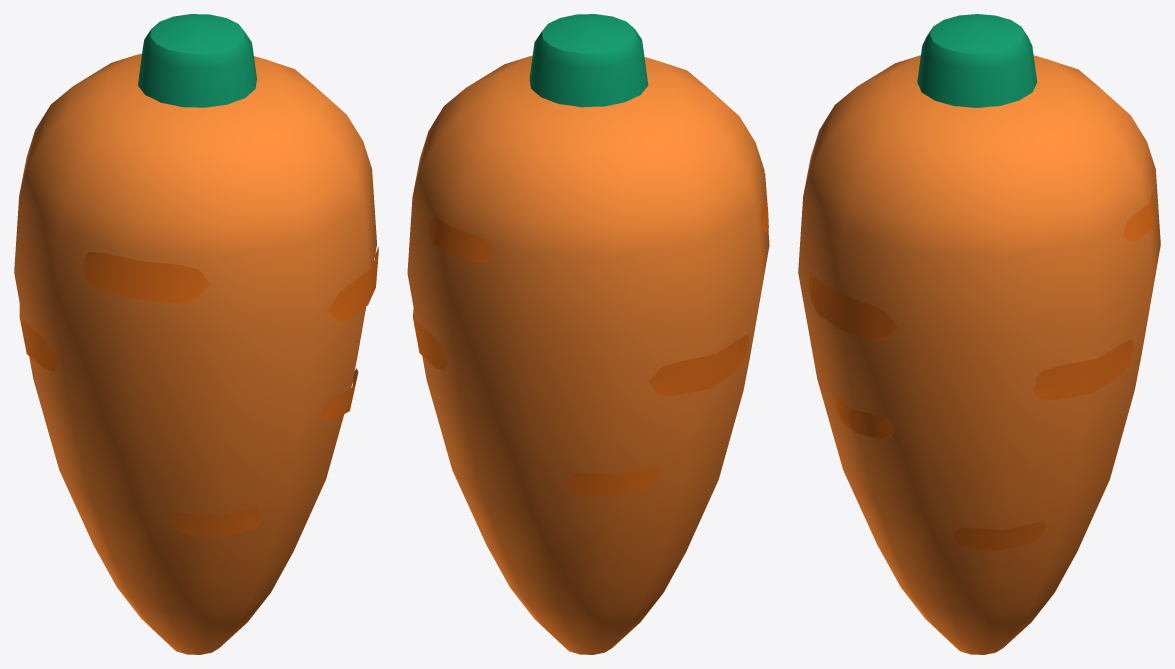
Rendered from Carrot.fbx.
3 renders of one model, left to right at view 1: azimuth 30°, elevation 25°; view 2: azimuth 150°, elevation 25°; view 3: azimuth 270°, elevation 25°, orthographic.
Parts seen in each view (by area): view 1: Carrot2A; view 2: Carrot2A; view 3: Carrot2A.
Boxes of the visible parts, bbox=[...] form: Carrot2A: bbox=[14, 14, 378, 654]; Carrot2A: bbox=[407, 14, 769, 654]; Carrot2A: bbox=[798, 14, 1160, 654].
Bounding box in the file's own units: 17.34 × 33.3 × 17.34.
